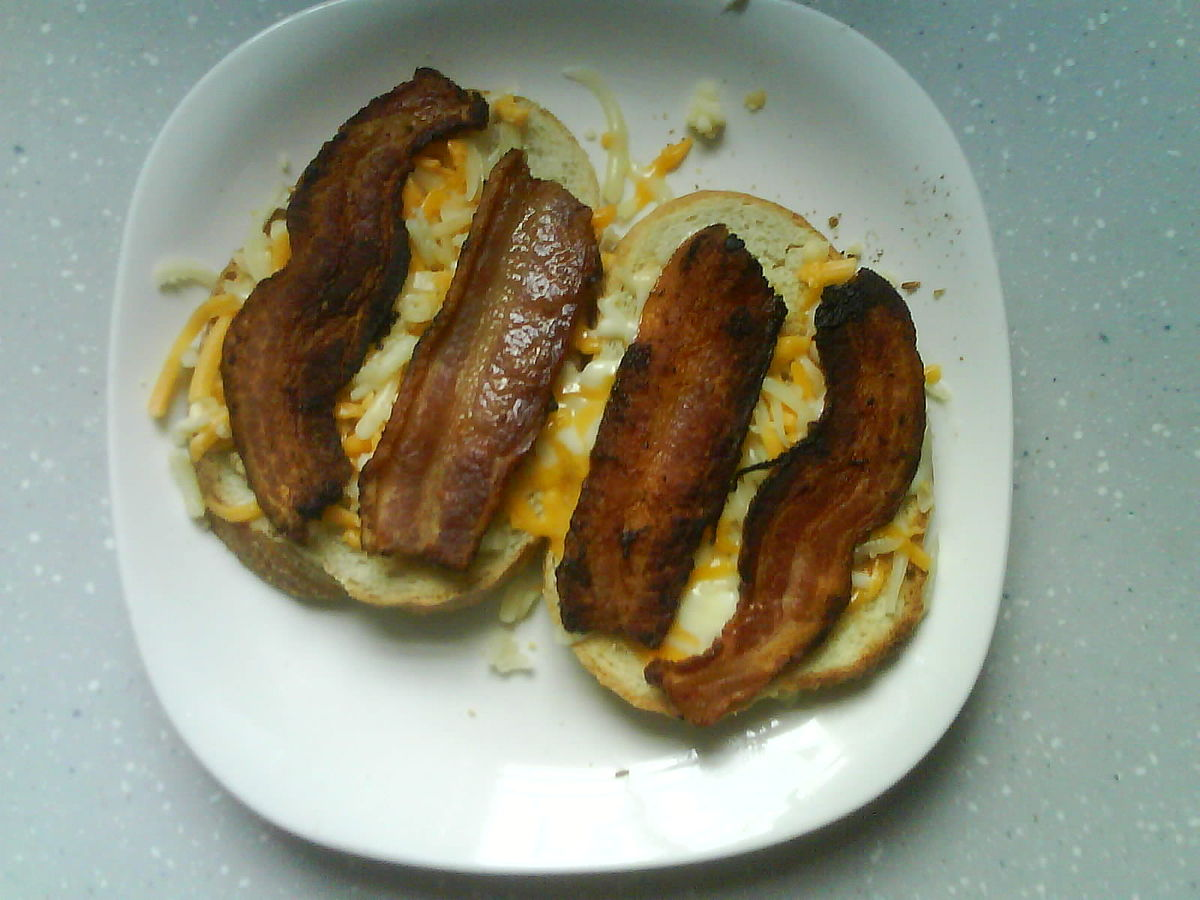cheese: (255, 157, 931, 684)
